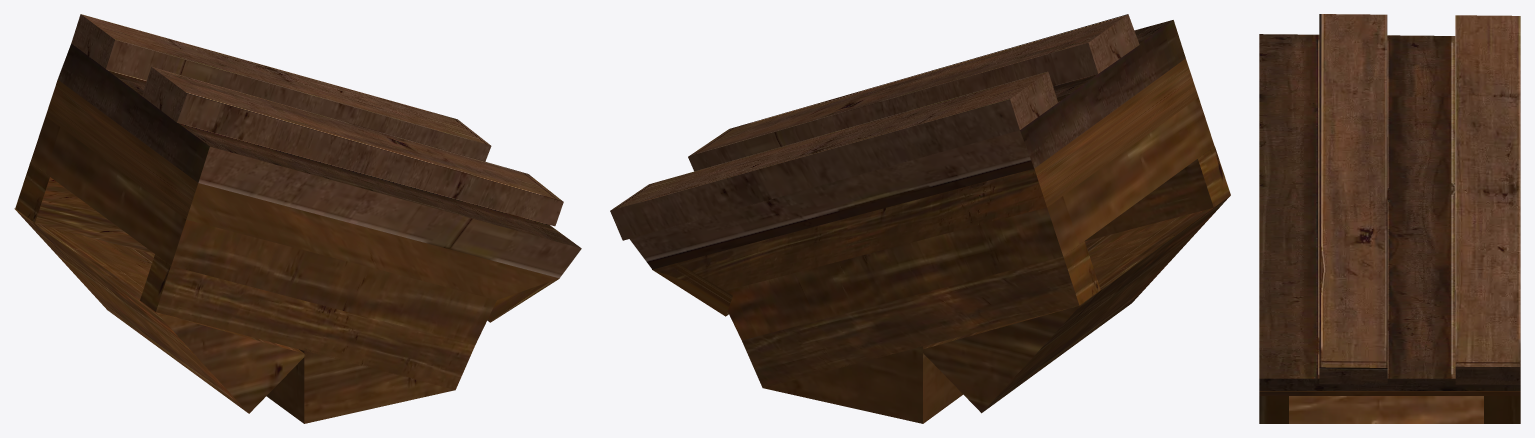
3 renders of one model, left to right at view 1: azimuth 30°, elevation 25°; view 2: azimuth 150°, elevation 25°; view 3: azimuth 270°, elevation 25°, orthographic. The views are drawn at different scales.
Visible parts, largest first — view 1: SM_BB_T2_Roof_Small_Shallow_LOD0; view 2: SM_BB_T2_Roof_Small_Shallow_LOD0; view 3: SM_BB_T2_Roof_Small_Shallow_LOD0.
Boxes of the visible parts, x1,y1,x2,y2 form: SM_BB_T2_Roof_Small_Shallow_LOD0: (14,14,581,423); SM_BB_T2_Roof_Small_Shallow_LOD0: (610,14,1230,423); SM_BB_T2_Roof_Small_Shallow_LOD0: (1259,14,1520,423).
Bounding box in the file's own units: 1.36 × 0.9641 × 0.75.
Materials: 2 (2 with a texture image).
